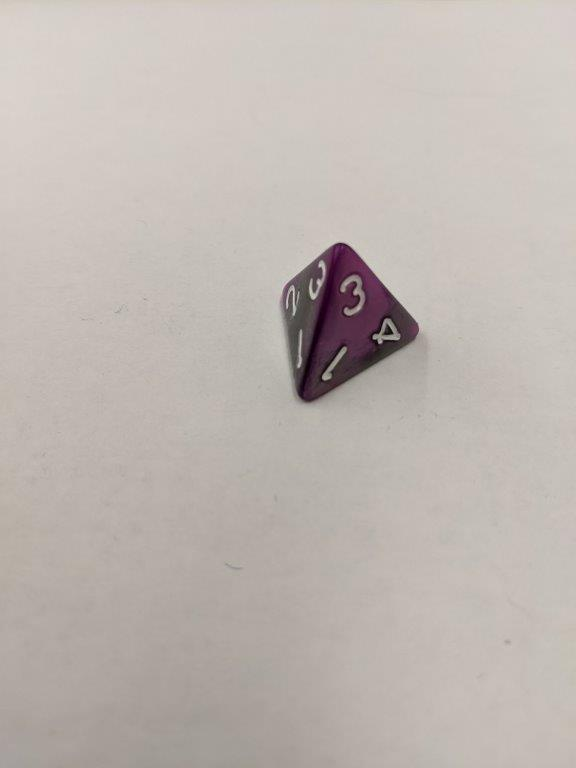d4-3: (278, 241, 421, 404)
